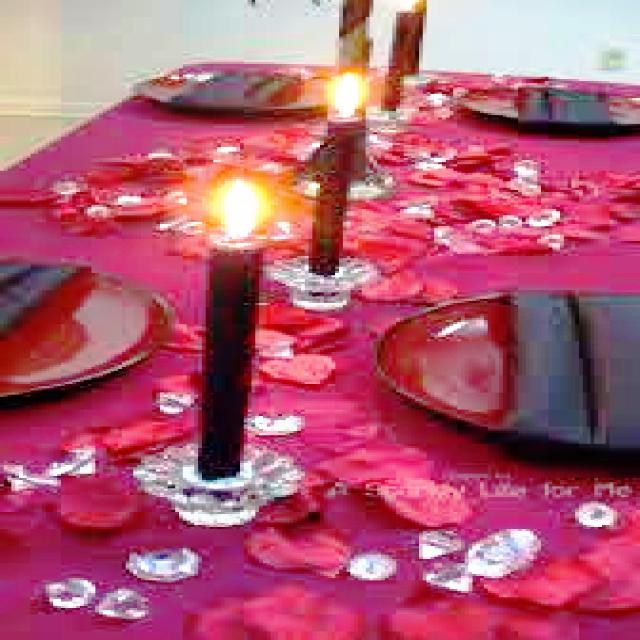api: (191, 178, 264, 234), (314, 74, 375, 119)
